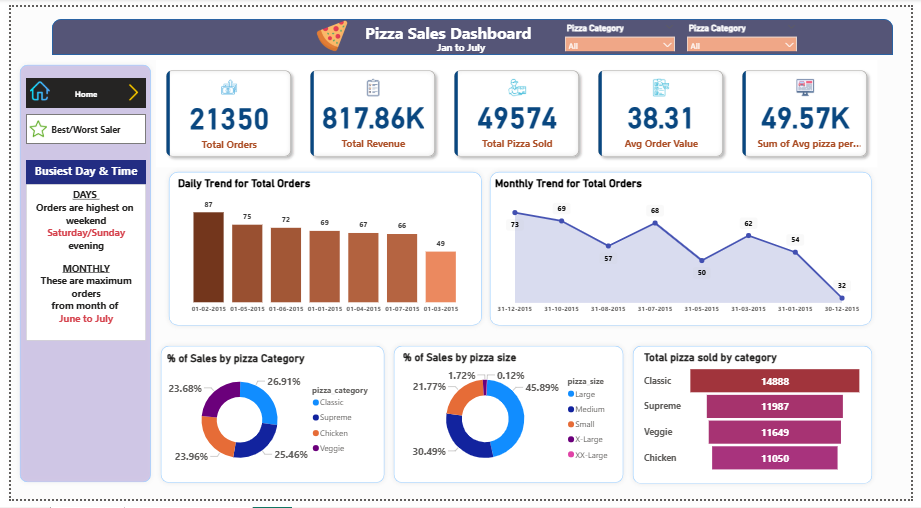

This screenshot's page, from the dashboard's own definition file:
{"tool":"powerbi","page":{"name":"Home","canvas":[1500,820],"ordinal":0},"visuals":[{"type":"cardVisual","title":"hii","fields":{"Data":["pizza_db pizza_sales.Total Orders","pizza_db pizza_sales.Total Revenue","pizza_db pizza_sales.Total Pizza Sold","pizza_db pizza_sales.Avg Order Value","Sum(pizza_db pizza_sales.Avg pizza per order)"]},"box":[241.1,88.6,1202.1,178.8],"z":0},{"type":"shape","box":[68.3,20,1401.7,60],"z":1000},{"type":"textbox","box":[585,20,328.3,50],"z":2000},{"type":"textbox","box":[698.3,51.7,103.3,36.7],"z":3000},{"type":"image","box":[396.7,16.7,276.7,63.3],"z":4000},{"type":"shape","box":[254.2,267.3,537.9,272.2],"z":5000},{"type":"columnChart","title":"Daily Trend for Total Orders","fields":{"Y":["pizza_db pizza_sales.Total Orders"],"Category":["pizza_db pizza_sales.order_date"]},"box":[273.9,283.7,500.2,237.8],"z":6000},{"type":"shape","box":[790.5,267.3,652.7,272.2],"z":7000},{"type":"areaChart","title":"Monthly Trend for Total Orders","fields":{"Y":["pizza_db pizza_sales.Total Orders"],"Category":["pizza_db pizza_sales.order_date"]},"box":[802,283.7,621.6,237.8],"z":8000},{"type":"shape","box":[6.6,88.6,234.5,711.8],"z":9000},{"type":"shape","box":[241.1,556,388.7,244.4],"z":10000},{"type":"donutChart","title":"% of Sales by pizza Category","fields":{"Category":["pizza_db pizza_sales.pizza_category"],"Y":["pizza_db pizza_sales.Total Revenue"]},"box":[254.2,575.6,360.8,205],"z":11000},{"type":"shape","box":[629.8,556,398.5,244.4],"z":12000},{"type":"shape","box":[1028.3,556,414.9,246],"z":13000},{"type":"donutChart","title":"% of Sales by pizza size","fields":{"Y":["pizza_db pizza_sales.Total Revenue"],"Category":["pizza_db pizza_sales.pizza_size"]},"box":[647.8,574,364.1,205],"z":14000},{"type":"funnel","title":"Total pizza sold by category","fields":{"Category":["pizza_db pizza_sales.pizza_category"],"Y":["pizza_db pizza_sales.Total Pizza Sold"]},"box":[1049.6,574,373.9,206.6],"z":15000},{"type":"textbox","box":[24.6,254.2,200.1,41],"z":16000},{"type":"textbox","box":[24.6,295.2,200.1,260.8],"z":17000},{"type":"slicer","fields":{"Values":["pizza_db pizza_sales.pizza_category"]},"box":[913.5,21.3,203.4,52.5],"z":18000},{"type":"slicer","fields":{"Values":["pizza_db pizza_sales.order_date"]},"box":[1116.8,21.3,203.4,52],"z":19000},{"type":"pageNavigator","box":[24.6,118.1,200.1,50],"z":20000},{"type":"pageNavigator","box":[24.6,178.8,200.1,50],"z":21000},{"type":"image","box":[183.7,123,41,37.7],"z":22000},{"type":"image","box":[26.2,118.1,42.6,42.6],"z":23000},{"type":"image","box":[24.6,183.7,41,39.4],"z":24000}]}

Visuals, with their boxes in screenshot pixels (x1, y1, x2, y2), scaled from the page's 1500x820 canvas onto the 921x508 screenshot:
"hii" cardVisual: 148, 55, 886, 166
shape: 42, 12, 903, 50
textbox: 359, 12, 561, 43
textbox: 429, 32, 492, 55
image: 244, 10, 413, 50
shape: 156, 166, 486, 334
"Daily Trend for Total Orders" columnChart: 168, 176, 475, 323
shape: 485, 166, 886, 334
"Monthly Trend for Total Orders" areaChart: 492, 176, 874, 323
shape: 4, 55, 148, 496
shape: 148, 344, 387, 496
"% of Sales by pizza Category" donutChart: 156, 357, 378, 484
shape: 387, 344, 631, 496
shape: 631, 344, 886, 497
"% of Sales by pizza size" donutChart: 398, 356, 621, 483
"Total pizza sold by category" funnel: 644, 356, 874, 484
textbox: 15, 157, 138, 183
textbox: 15, 183, 138, 344
slicer - pizza_db pizza_sales.pizza_category: 561, 13, 686, 46
slicer - pizza_db pizza_sales.order_date: 686, 13, 811, 45
pageNavigator: 15, 73, 138, 104
pageNavigator: 15, 111, 138, 142
image: 113, 76, 138, 100
image: 16, 73, 42, 100
image: 15, 114, 40, 138
